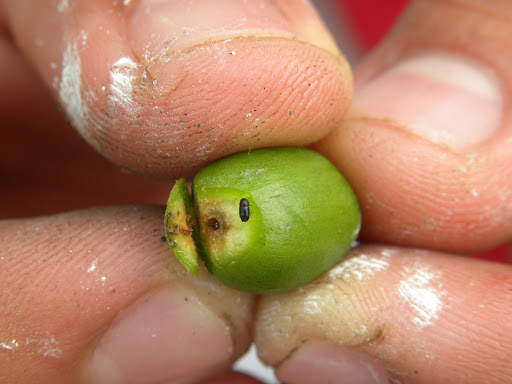broca de cafe: (169, 171, 362, 265)
